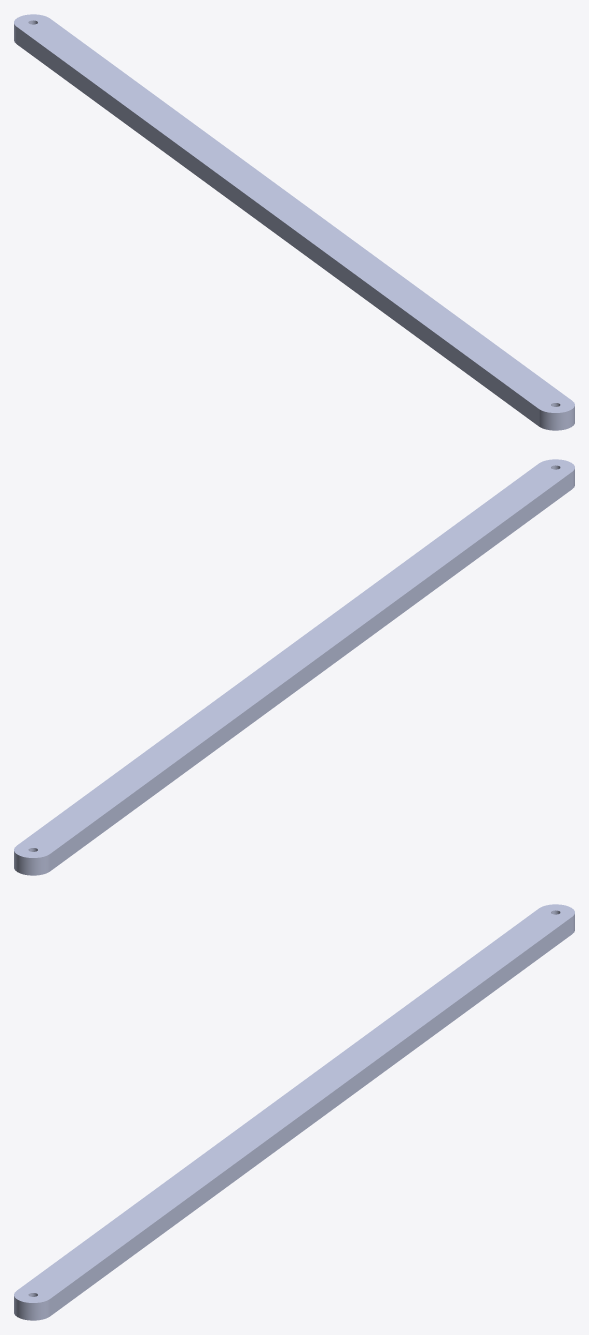
3 views of the same model, one above another, from view 1: azimuth 30°, elevation 25°; view 2: azimuth 150°, elevation 25°; view 3: azimuth 330°, elevation 25° (orthographic).
Parts seen in each view (by area): view 1: P_LINK2; view 2: P_LINK2; view 3: P_LINK2.
Boxes of the visible parts, <box> form: P_LINK2: <box>14,14,574,430</box>; P_LINK2: <box>14,459,574,875</box>; P_LINK2: <box>14,904,574,1320</box>.
Size of the model in its own units: 0.02 by 0.01 by 0.56.
